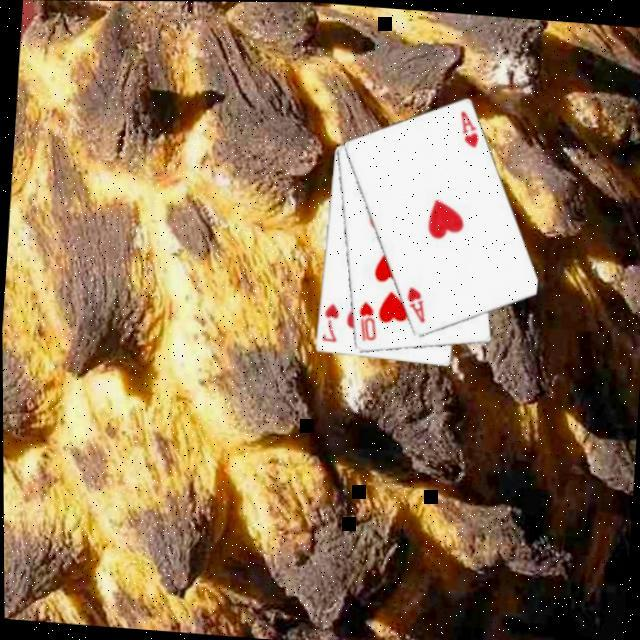10H: (354, 295, 381, 342)
7H: (319, 297, 342, 342)
AH: (401, 280, 429, 324), (455, 104, 483, 148)
